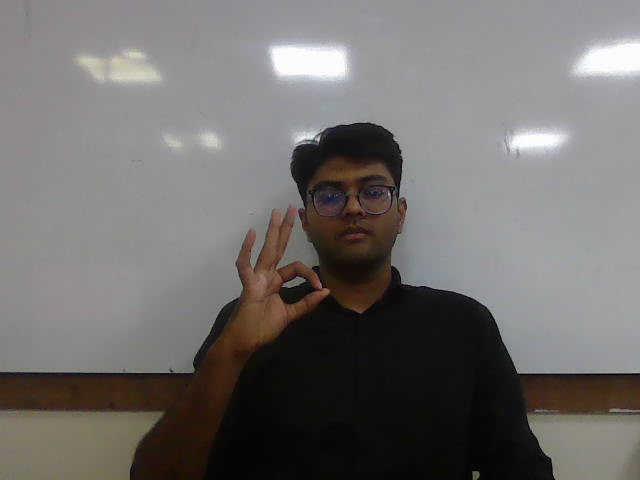Shundor: (234, 202, 332, 356)
